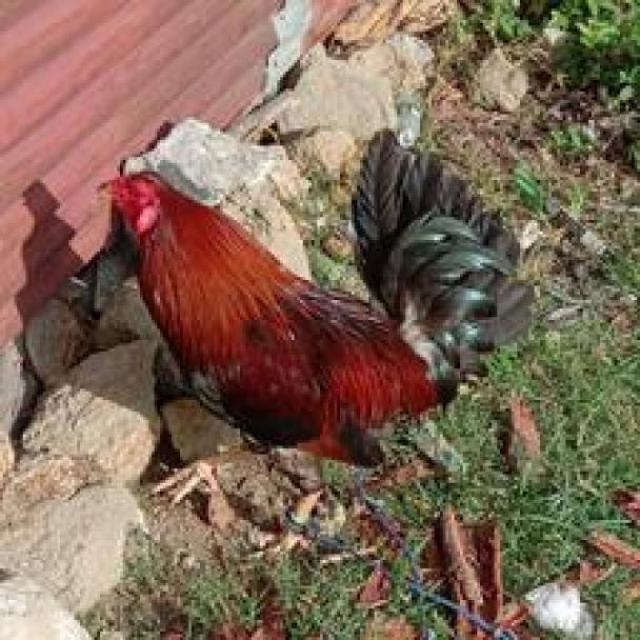Chicken: (98, 147, 599, 544)
